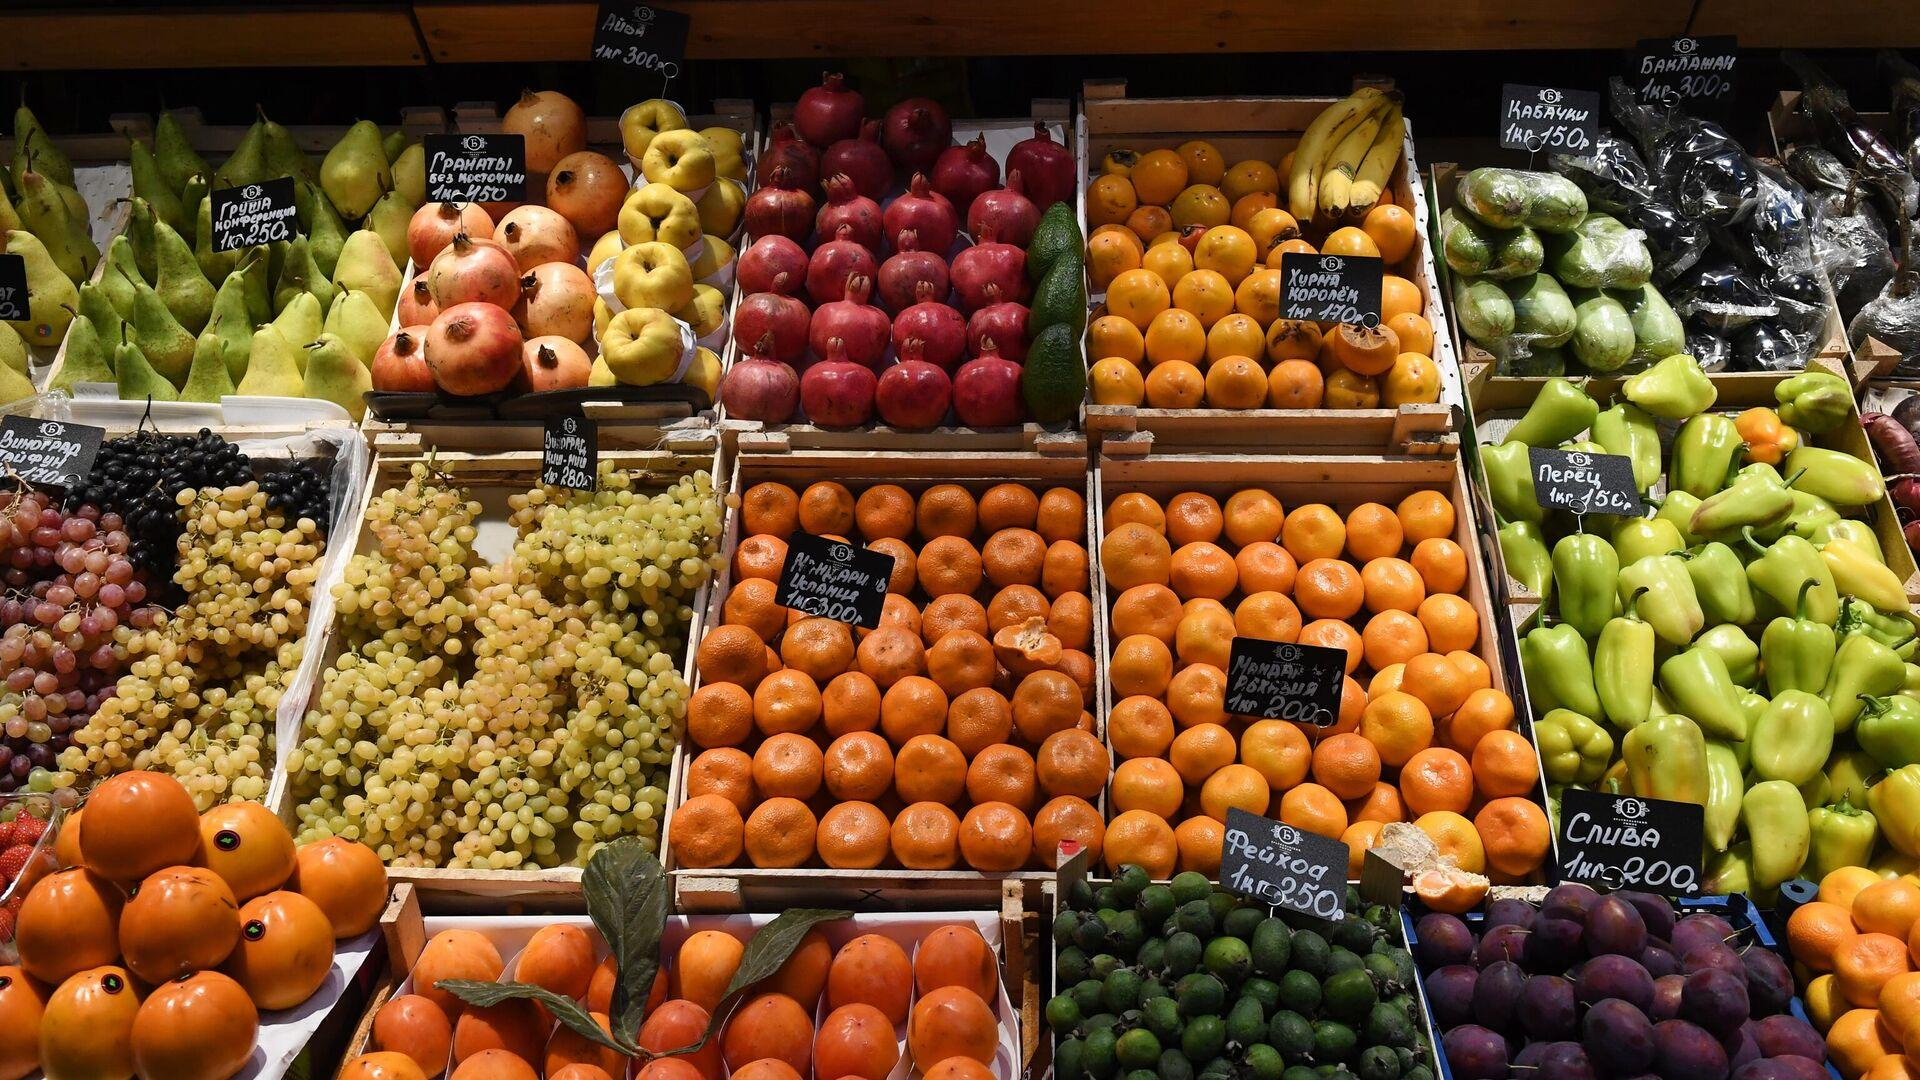banana: (1284, 85, 1405, 224)
eggplant: (1606, 88, 1832, 366)
grapes: (283, 453, 721, 871), (113, 489, 292, 797)
mandarin: (1100, 483, 1548, 891), (672, 476, 1106, 871)
pear: (72, 113, 433, 406)
pomegranate: (721, 71, 1073, 431), (400, 102, 600, 389)
sweet pepper: (1479, 351, 1918, 903)
